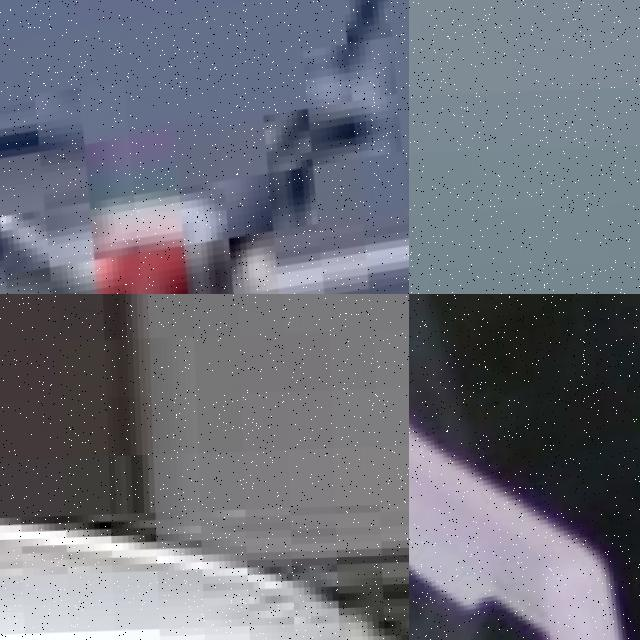0: (0, 0, 409, 294)
drone: (409, 294, 640, 640)
